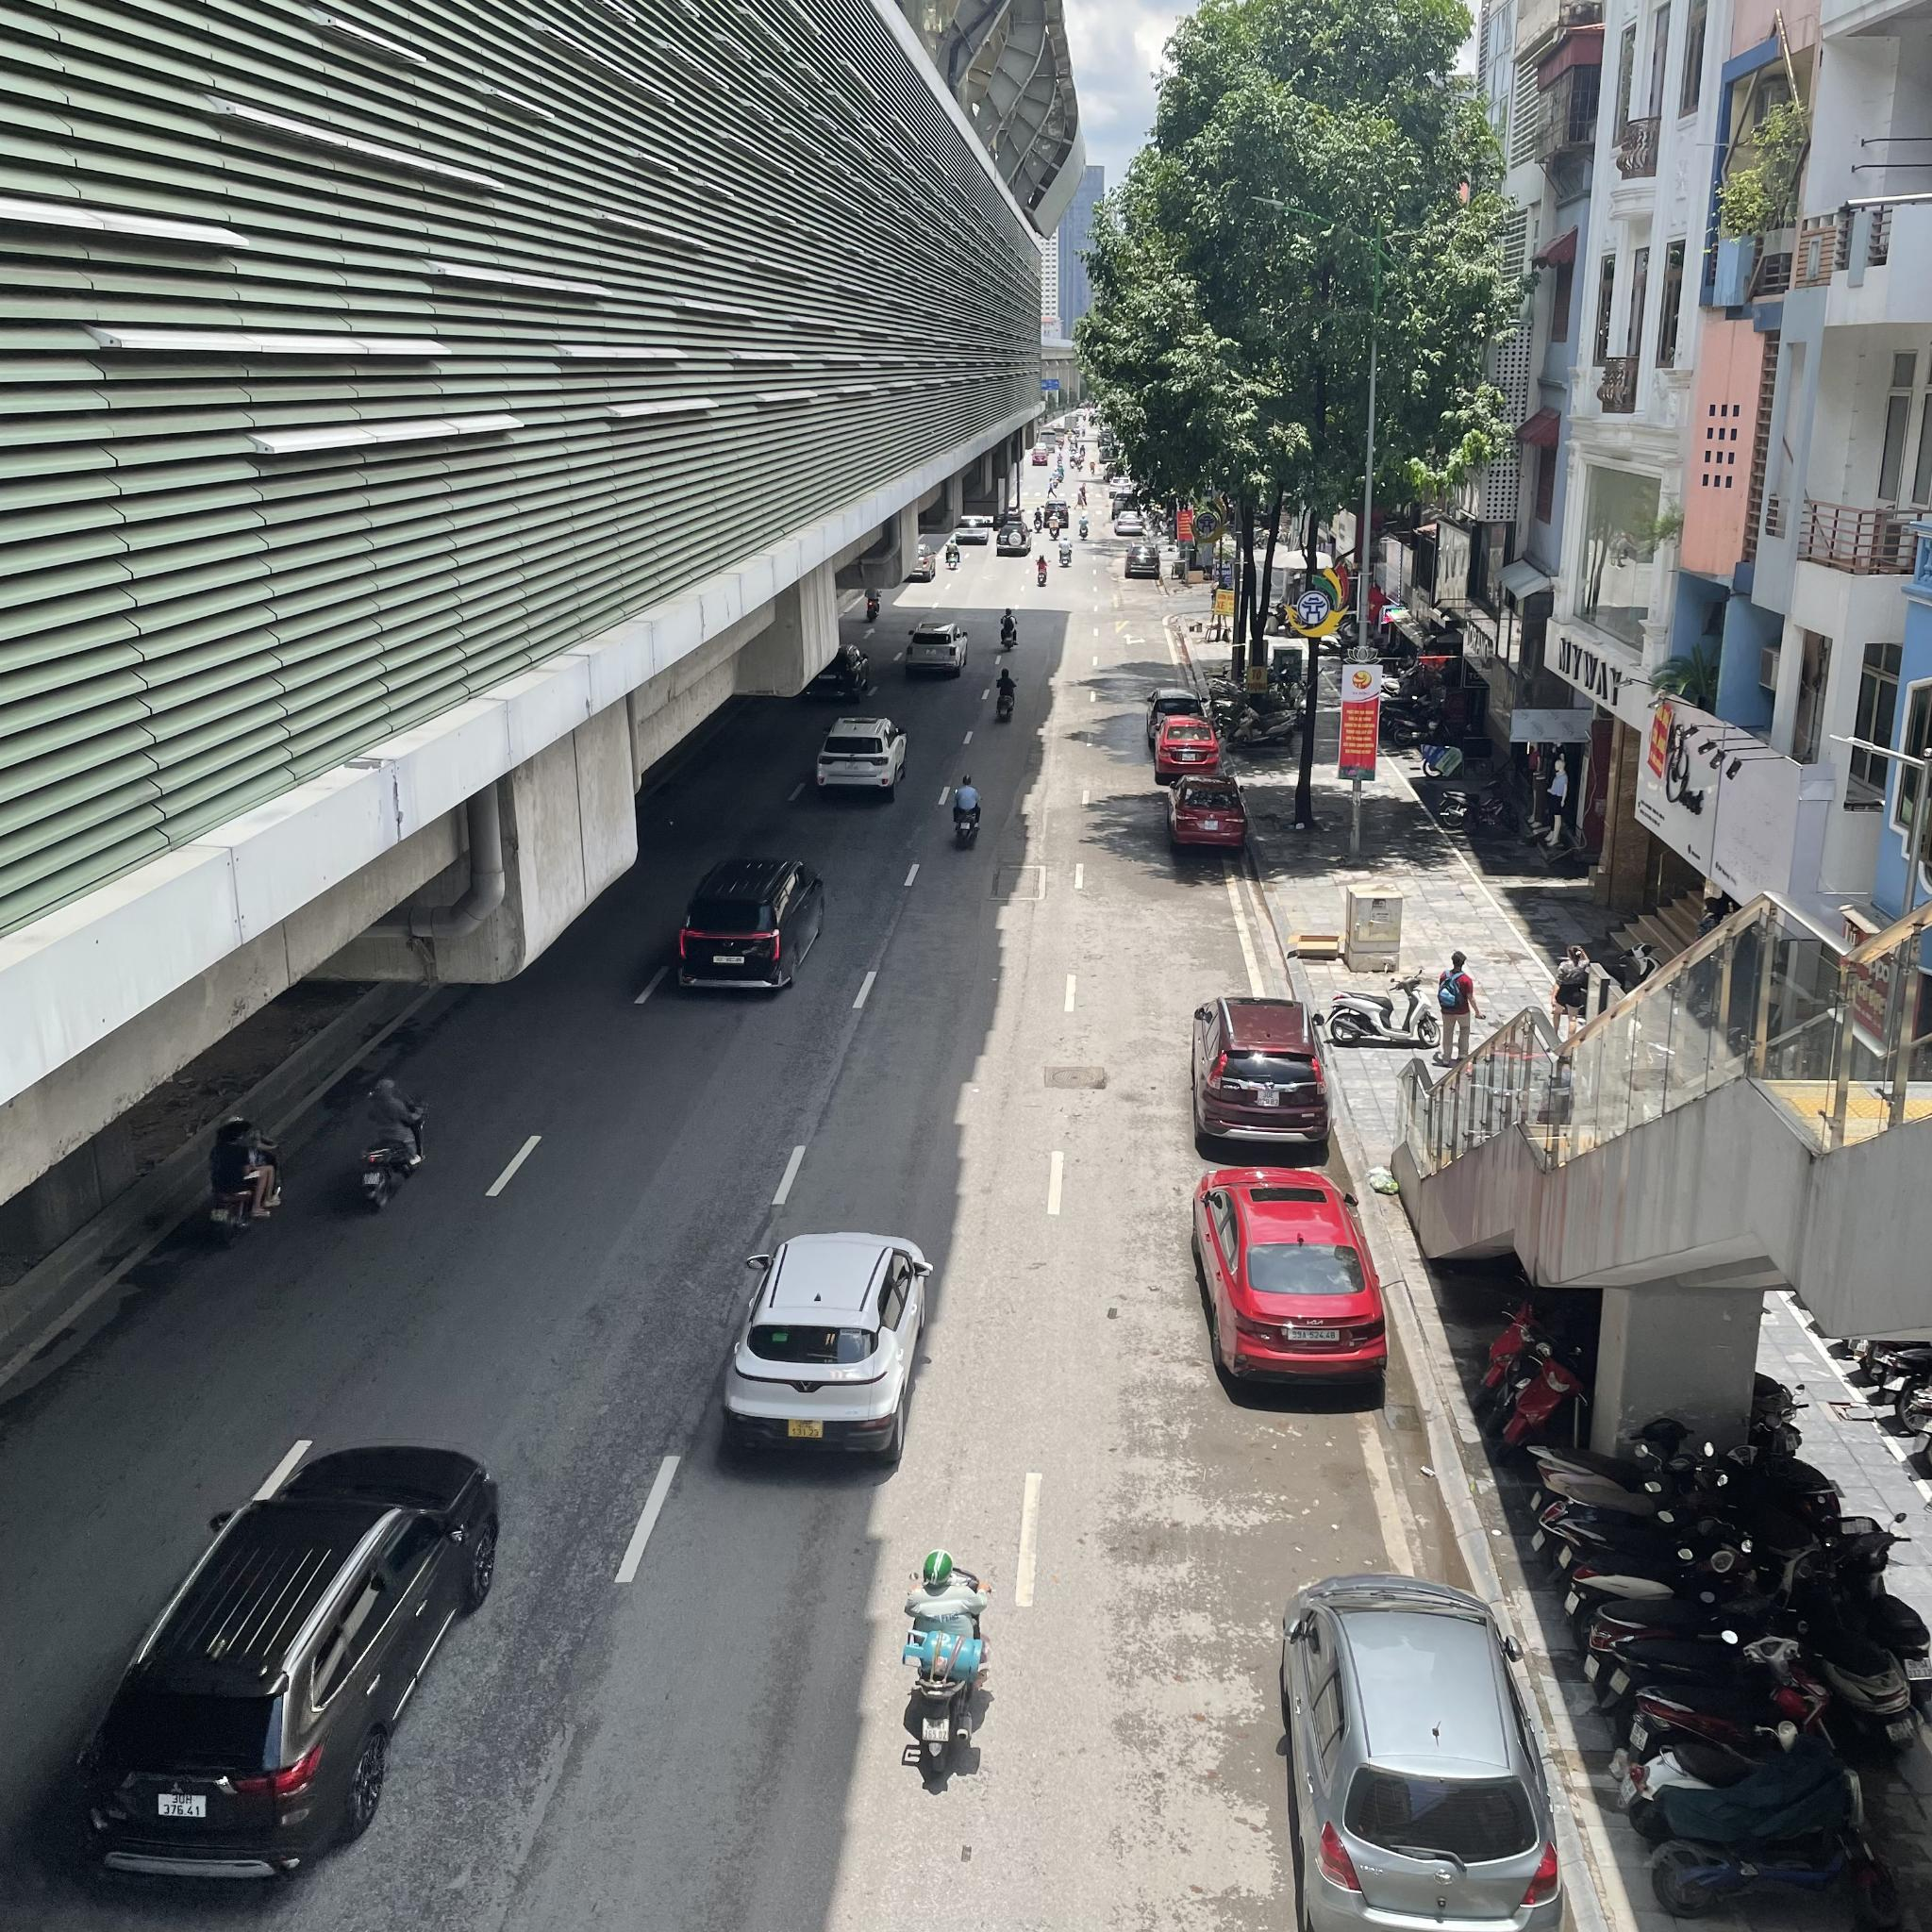car: (73, 1435, 502, 1879), (1281, 1571, 1560, 1932), (722, 1230, 934, 1468), (1191, 1166, 1391, 1391), (1192, 993, 1330, 1159), (676, 851, 828, 993), (1327, 968, 1442, 1049), (816, 715, 908, 801), (1166, 773, 1249, 847), (902, 617, 971, 679), (1154, 717, 1224, 775), (1146, 686, 1210, 747), (1123, 541, 1161, 579), (996, 520, 1033, 556), (1113, 510, 1145, 536)
motobike: (901, 1550, 996, 1776), (205, 1115, 287, 1249), (359, 1077, 432, 1212), (1327, 968, 1442, 1049), (950, 773, 982, 847), (994, 669, 1019, 722), (1000, 607, 1019, 653), (863, 589, 883, 621), (945, 538, 961, 570), (1035, 554, 1049, 587), (1060, 536, 1072, 568), (1047, 511, 1060, 538), (1033, 506, 1044, 534), (1077, 515, 1090, 538)
